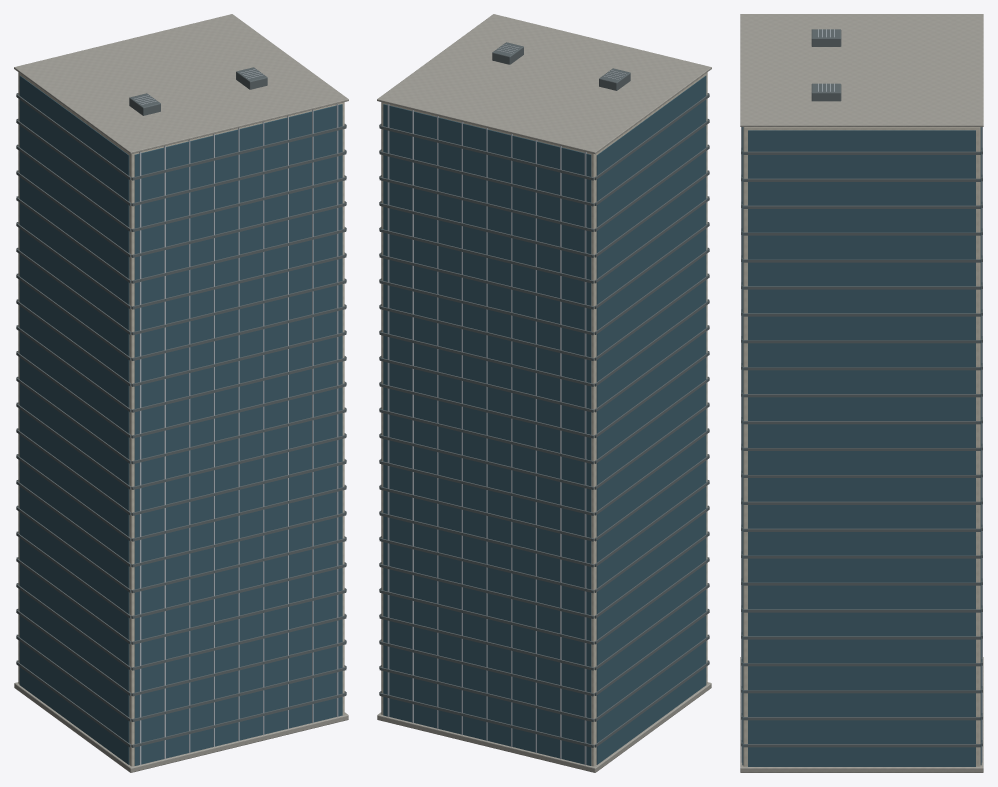
Rendered from mc_tower.glb.
3 renders of one model, left to right at view 1: azimuth 30°, elevation 25°; view 2: azimuth 150°, elevation 25°; view 3: azimuth 270°, elevation 25°, orthographic. The views are drawn at different scales.
Parts seen in each view (by area): view 1: mc_tower__Geometry; view 2: mc_tower__Geometry; view 3: mc_tower__Geometry.
Boxes of the visible parts, bbox=[...] form: mc_tower__Geometry: bbox=[14, 14, 348, 772]; mc_tower__Geometry: bbox=[377, 14, 711, 772]; mc_tower__Geometry: bbox=[740, 14, 983, 772].
Size of the model in its own units: 26.6 by 73.24 by 24.6.
Materials: 5 (2 with a texture image).
